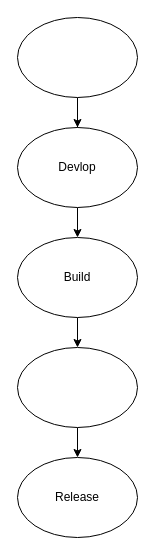
Image size: 155x555. Some labels were removed from this diagram. Here are the shapes that lost their labels. From the top down, the box of each, then its label:
(16, 16, 138, 98): Plan
(16, 346, 138, 428): Test
